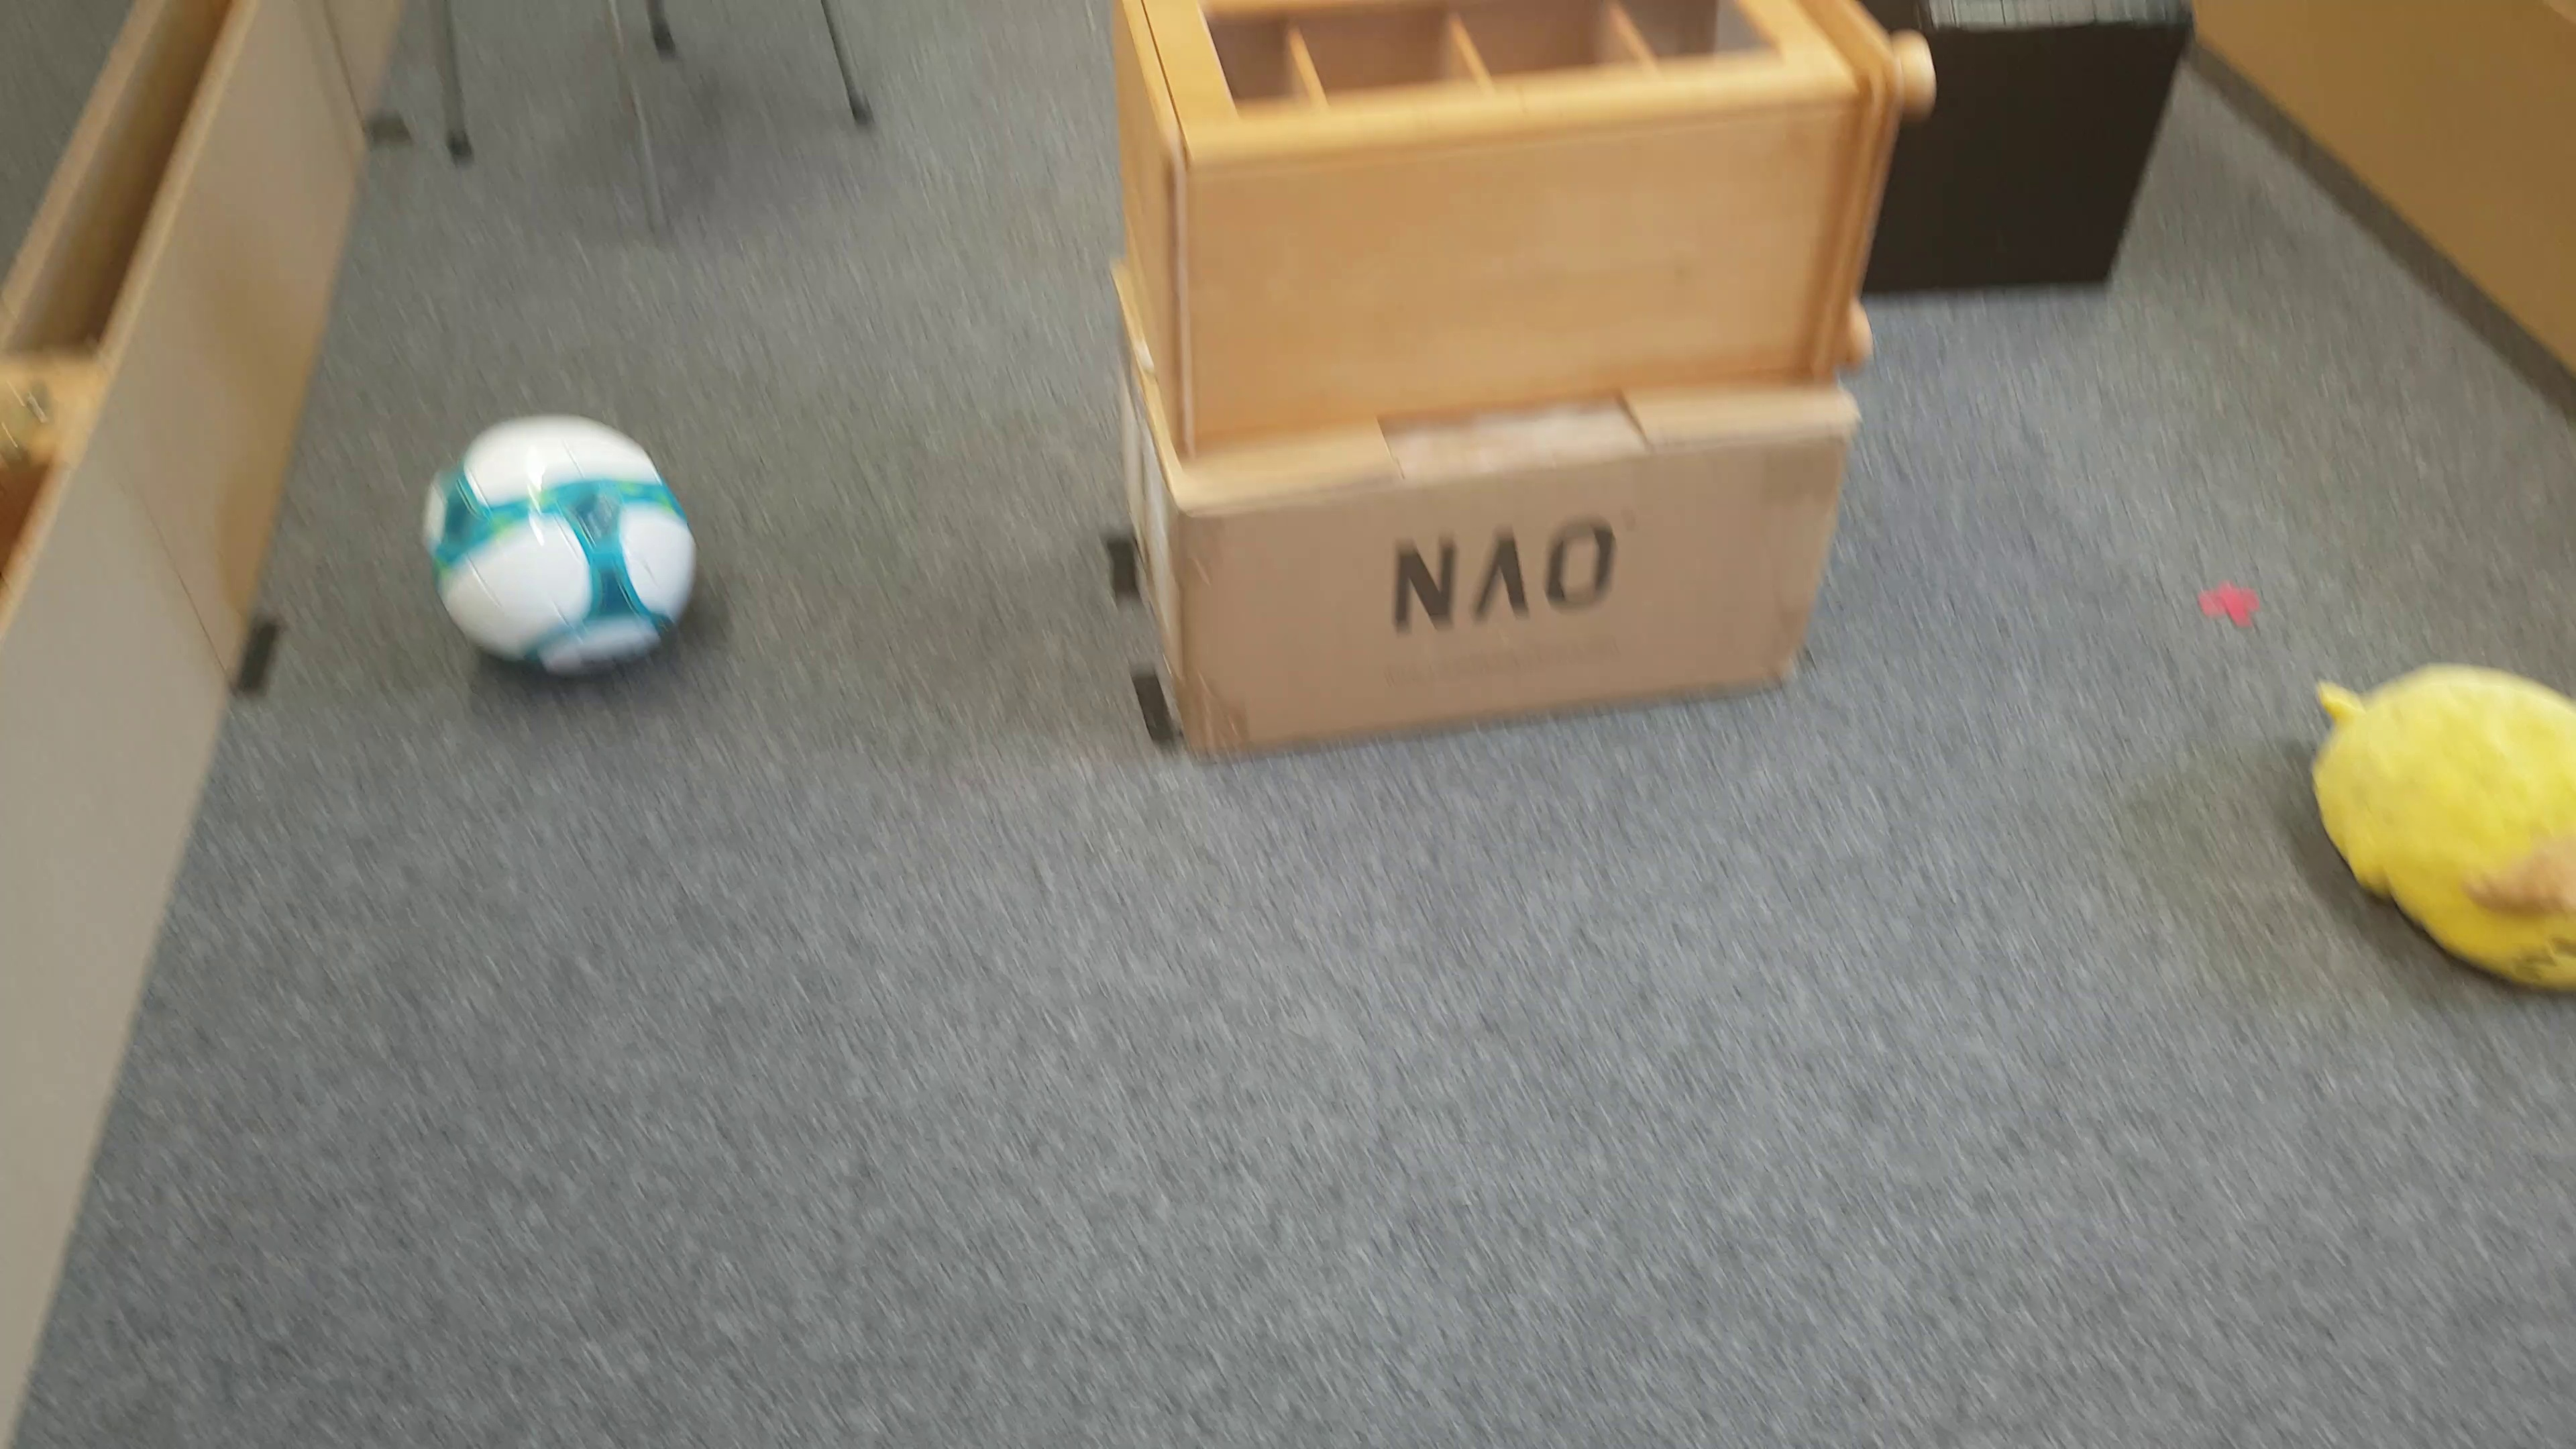grasp: (2305, 655, 2576, 998)
kick: (418, 410, 704, 678)
push: (1941, 4, 2197, 303)
